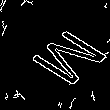M_SE: (7, 21, 103, 89)
